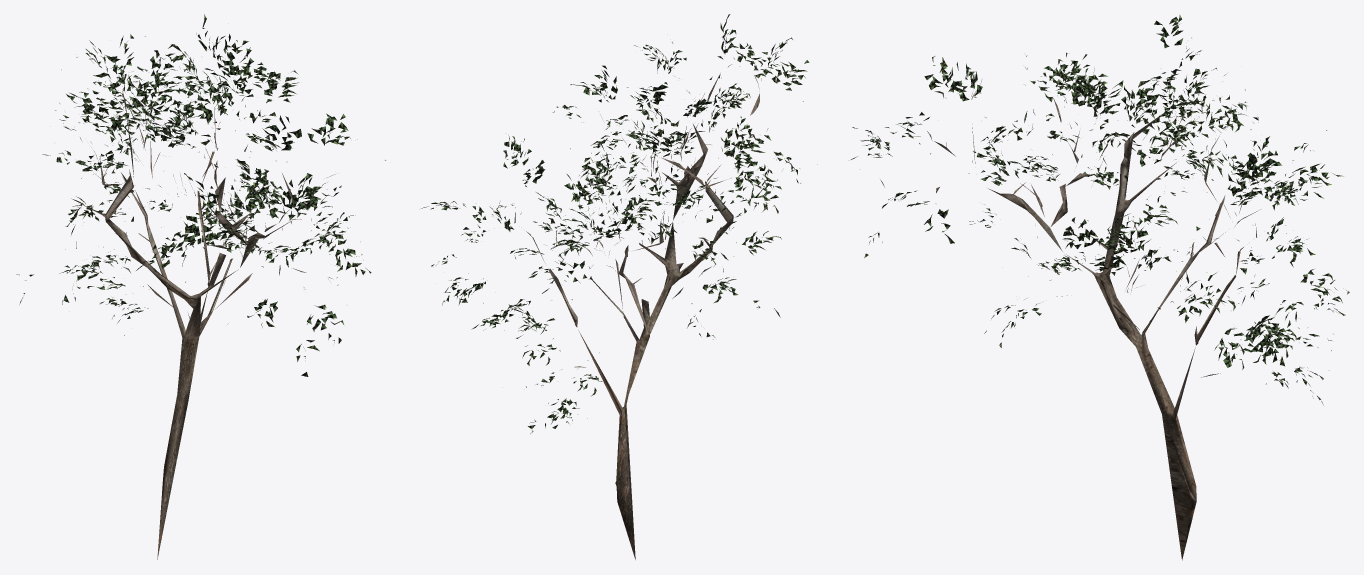
Rendered from tree-small-02-lod1-512.glb.
3 renders of one model, left to right at view 1: azimuth 30°, elevation 25°; view 2: azimuth 150°, elevation 25°; view 3: azimuth 270°, elevation 25°, orthographic. The views are drawn at different scales.
Visible parts, largest first — view 1: tree_small_02_LOD0; view 2: tree_small_02_LOD0; view 3: tree_small_02_LOD0.
Part boxes in pixels (box(x1,y1,x2,y2)): tree_small_02_LOD0: box(16, 14, 385, 559); tree_small_02_LOD0: box(421, 14, 817, 559); tree_small_02_LOD0: box(851, 14, 1349, 560).
Size of the model in its own units: 2.87 by 4.54 by 4.01.
3 materials, 3 textured.
